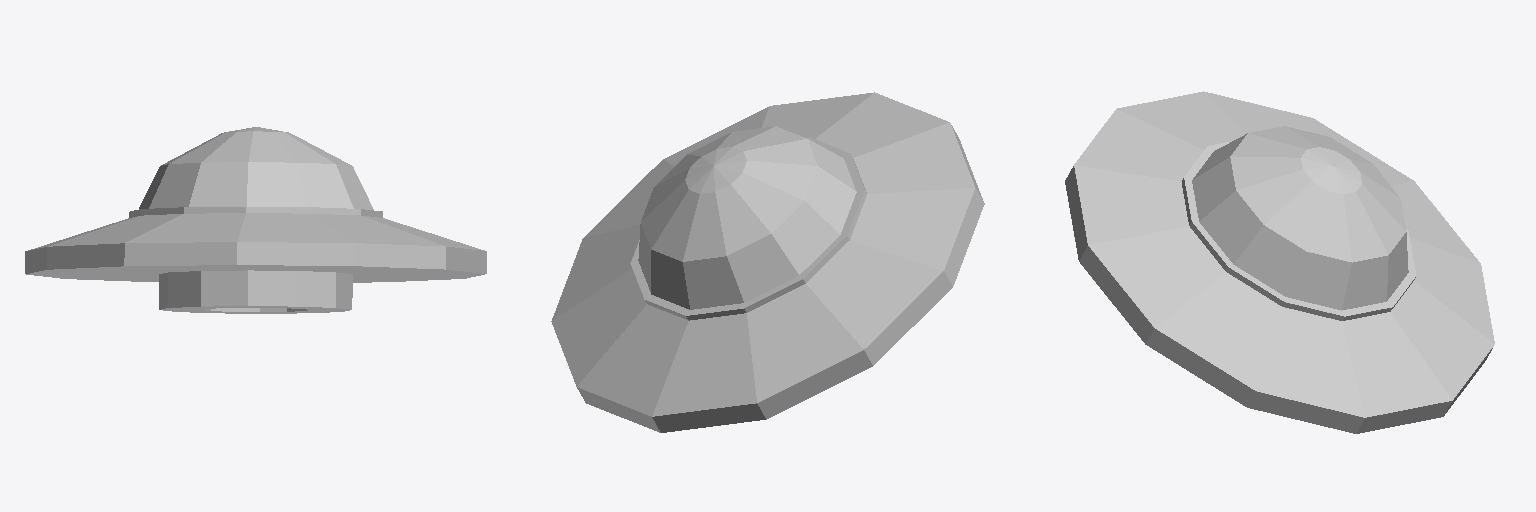
Rendered from prop-ufo.obj.
3 renders of one model, left to right at view 1: azimuth 30°, elevation 25°; view 2: azimuth 150°, elevation 25°; view 3: azimuth 270°, elevation 25°, orthographic.
Parts seen in each view (by area): view 1: UFO_Circle.002; view 2: UFO_Circle.002; view 3: UFO_Circle.002.
Part boxes in pixels (bbox=[...]): UFO_Circle.002: bbox=[25, 127, 486, 313]; UFO_Circle.002: bbox=[551, 92, 984, 432]; UFO_Circle.002: bbox=[1065, 91, 1494, 433].
Bounding box in the file's own units: 5.28 × 2.87 × 4.99.